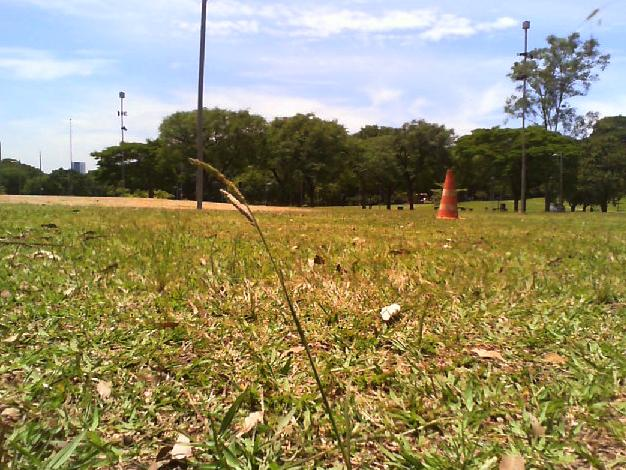0 cone: (436, 169, 459, 221)
